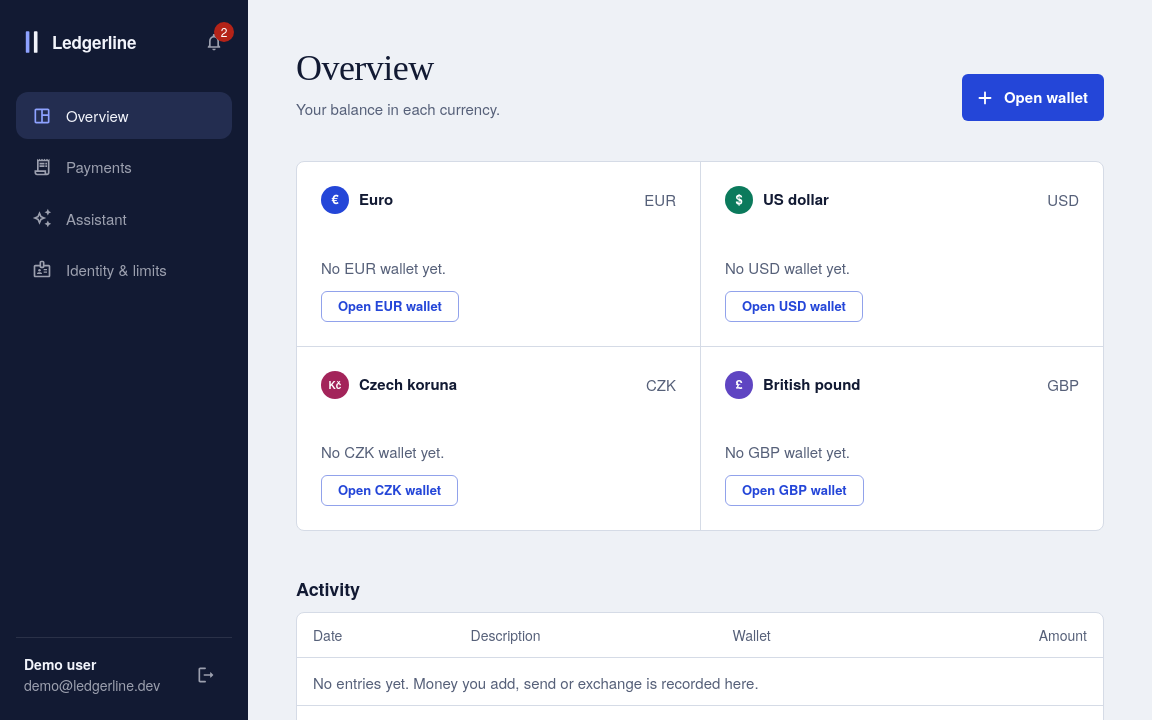
Test: Notifications › marks all as read
Step 1. Click the button named "Notifications, 2 unread" → (214, 42), box [196,24,232,60]
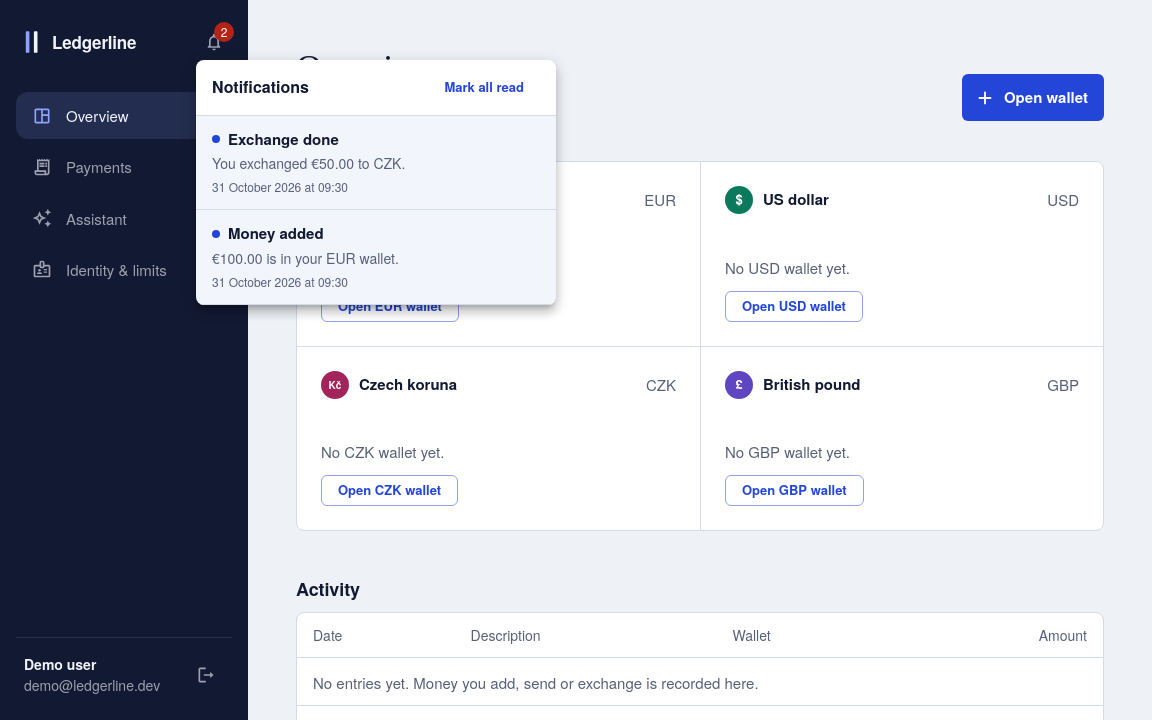
Step 2. Click the button "Mark all read" → (484, 87), box [428,72,540,103]
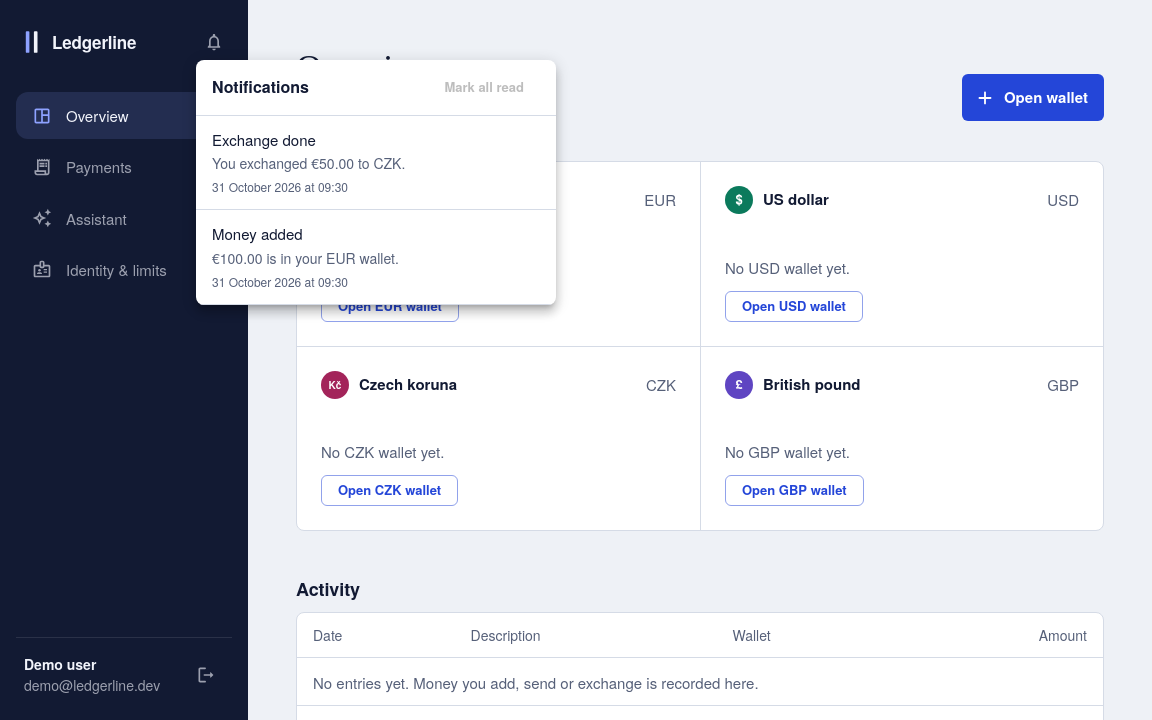
Result: the button "Mark all read" is disabled at [428,72,540,103]
Result: the field labelled "Unread" is gone
